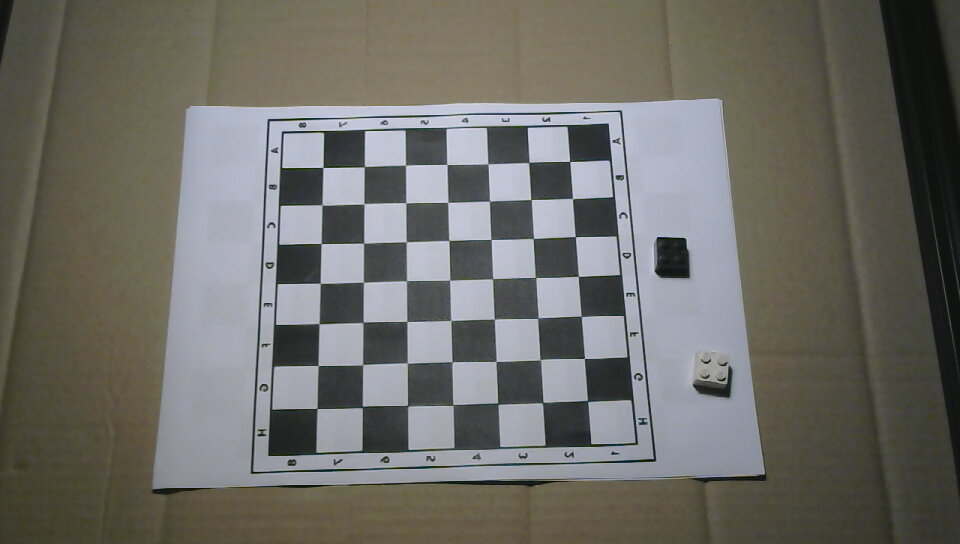wp: (692, 345, 731, 396)
